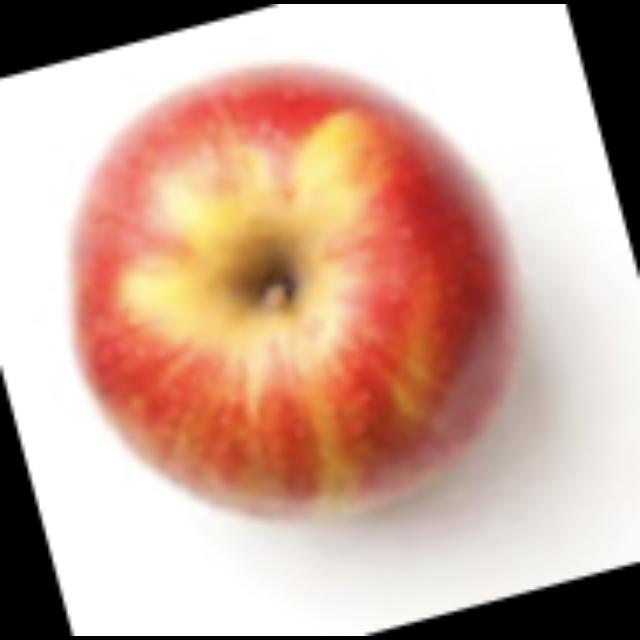Apel Segar: (47, 73, 598, 543)
